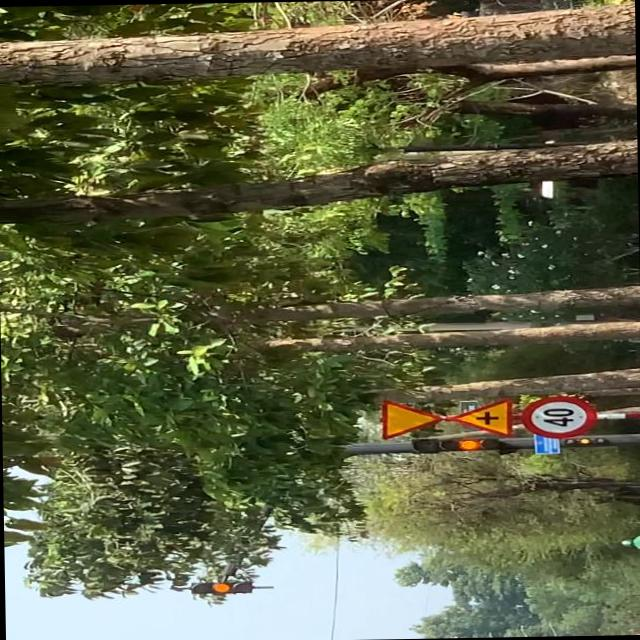P-127: (518, 394, 596, 442)
W-205a: (442, 398, 514, 438)
W-208: (379, 398, 442, 436)
